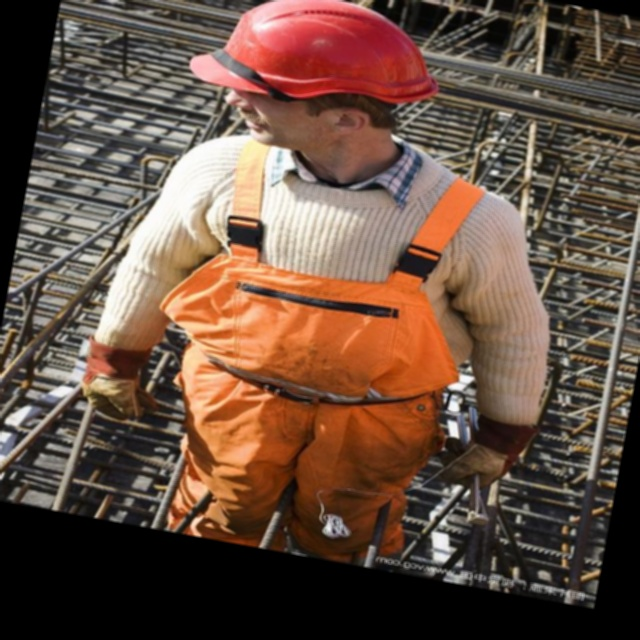Con_Casco: (179, 0, 436, 169)
